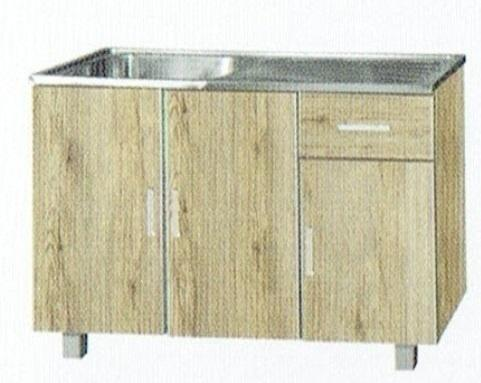cabinet_door: (34, 85, 162, 329), (165, 90, 295, 326), (299, 164, 432, 343), (302, 95, 435, 160)
handle: (141, 184, 160, 239), (169, 185, 186, 243), (333, 119, 392, 134), (302, 224, 317, 281)
